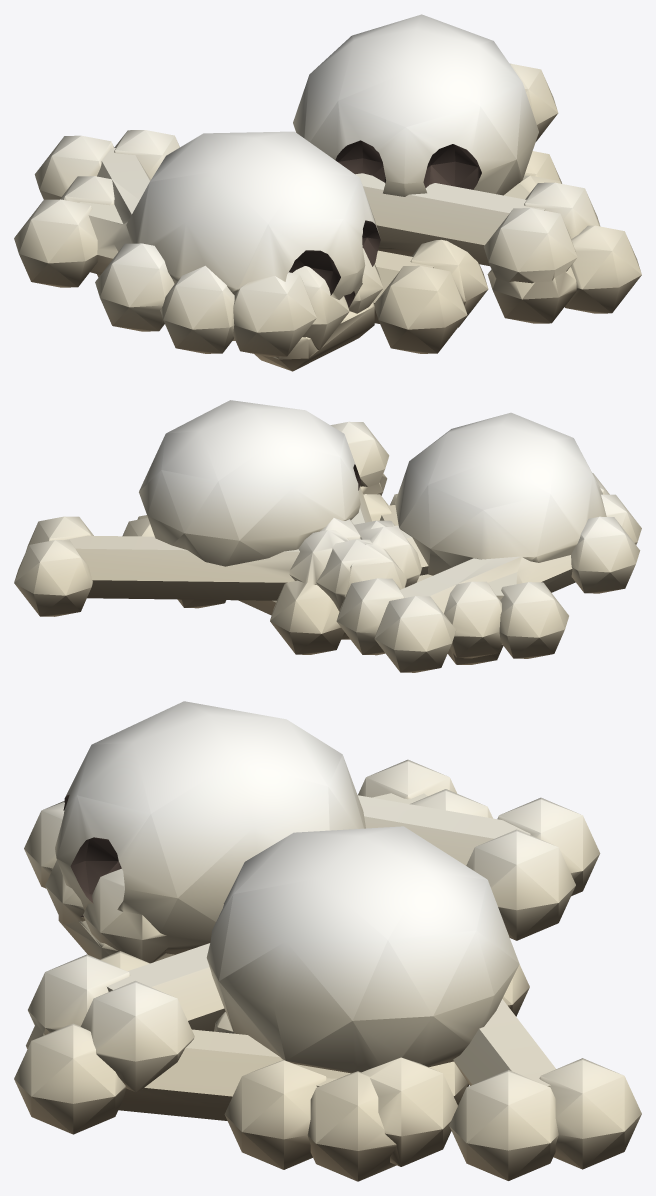
Rendered from bone_pile.glb.
3 renders of one model, top to bottom at view 1: azimuth 30°, elevation 25°; view 2: azimuth 150°, elevation 25°; view 3: azimuth 270°, elevation 25°, orthographic. The views are drawn at different scales.
Visible parts, largest first — view 1: Item; view 2: Item; view 3: Item.
Part boxes in pixels (box(x1,y1,x2,y2)): Item: box(14, 14, 641, 371); Item: box(14, 400, 641, 672); Item: box(14, 701, 641, 1181).
Bounding box in the file's own units: 1.29 × 0.4961 × 1.
1 material, 1 textured.
